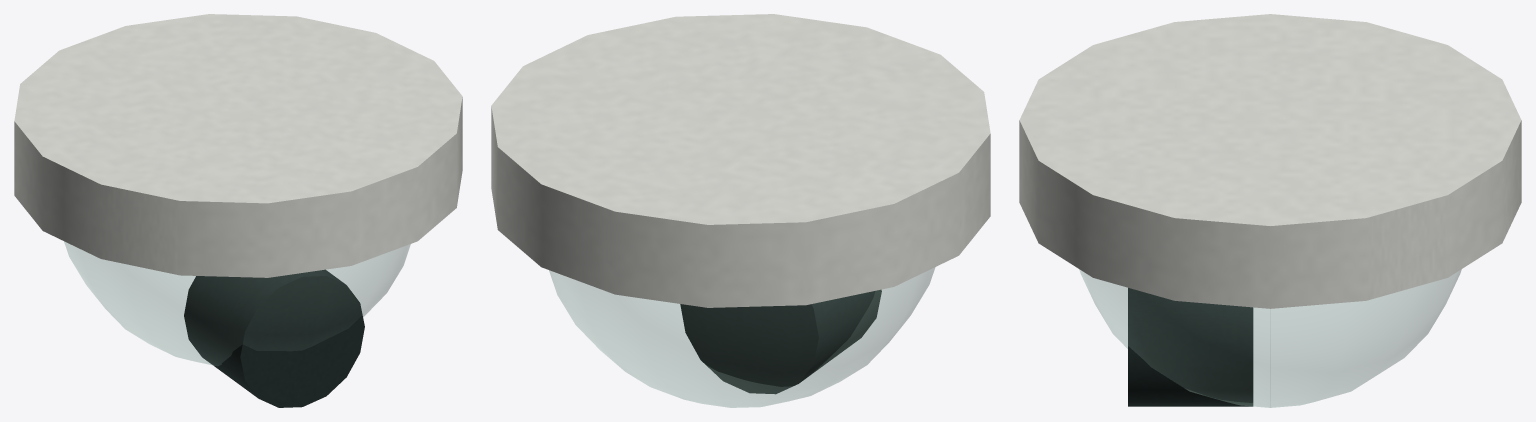
File: detail-cctv-1.glb
3 renders of one model, left to right at view 1: azimuth 30°, elevation 25°; view 2: azimuth 150°, elevation 25°; view 3: azimuth 270°, elevation 25°, orthographic. The views are drawn at different scales.
Visible parts, largest first — view 1: camera_mount, camera_dome, lens; view 2: camera_mount, camera_dome, lens; view 3: camera_mount, camera_dome, lens.
Boxes of the visible parts, x1=… form: camera_mount: x1=14, y1=14, x2=462, y2=277; camera_dome: x1=64, y1=241, x2=410, y2=365; lens: x1=184, y1=269, x2=364, y2=407; camera_mount: x1=491, y1=14, x2=990, y2=307; camera_dome: x1=549, y1=267, x2=934, y2=407; lens: x1=680, y1=290, x2=881, y2=394; camera_mount: x1=1019, y1=14, x2=1521, y2=308; camera_dome: x1=1079, y1=269, x2=1461, y2=407; lens: x1=1128, y1=288, x2=1253, y2=406.
Size of the model in its own units: 0.22 by 0.135 by 0.22.
3 materials, 2 textured.
